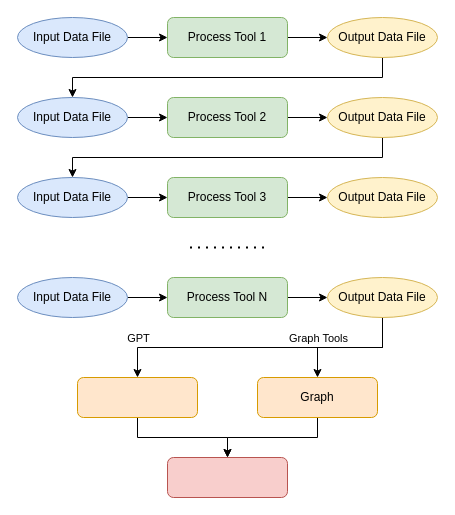
The diagram is 455 pixels wide and 515 high, and some of its shapes have lost their labels. Here are the shapes that lost their labels. From the top down, the centre of each, then its label:
(137,397): Text Summary
(227,477): Response
